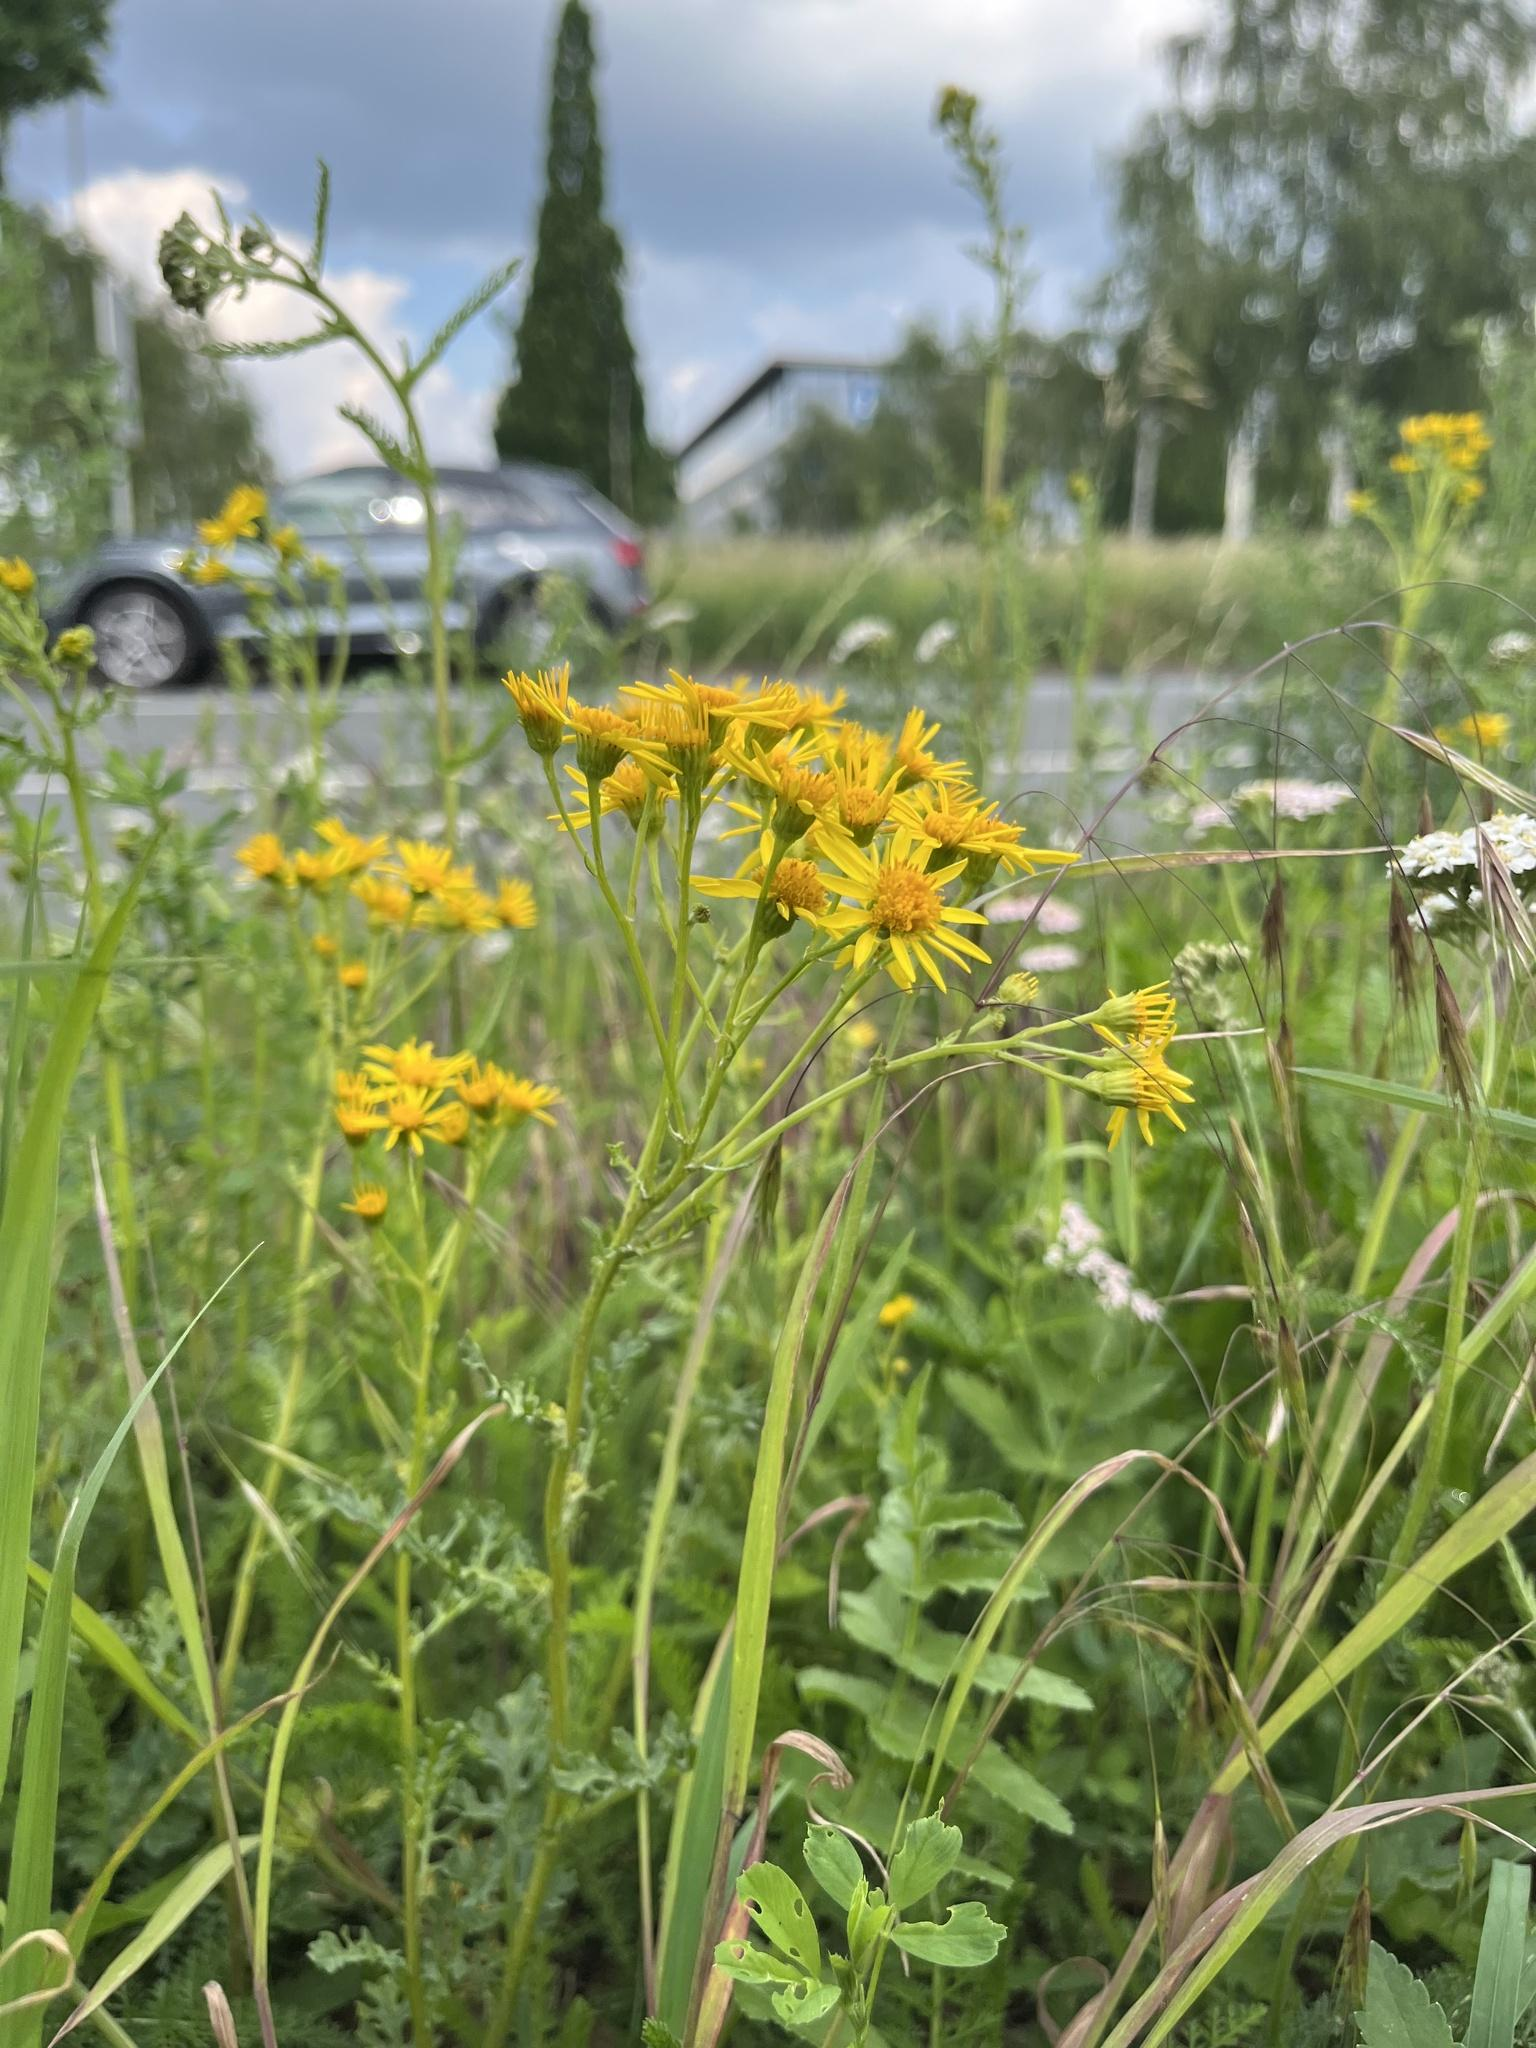Jacobaea vulgaris: (503, 653, 1163, 2048), (213, 774, 537, 2048)
